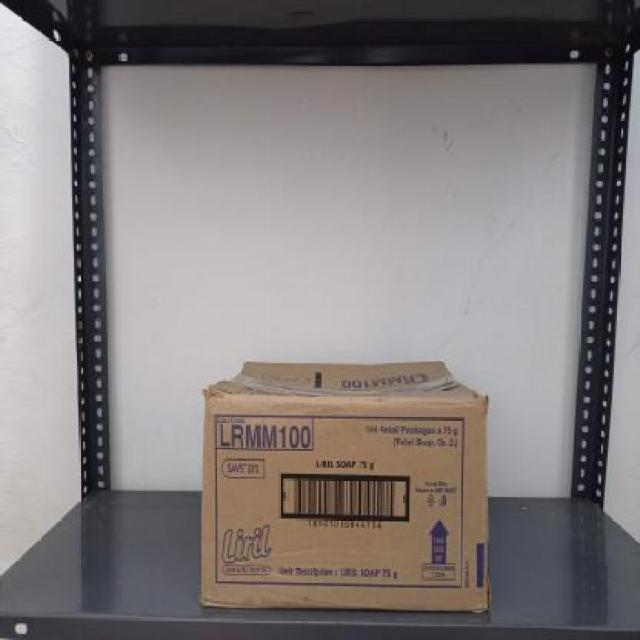box: (199, 393, 492, 610)
